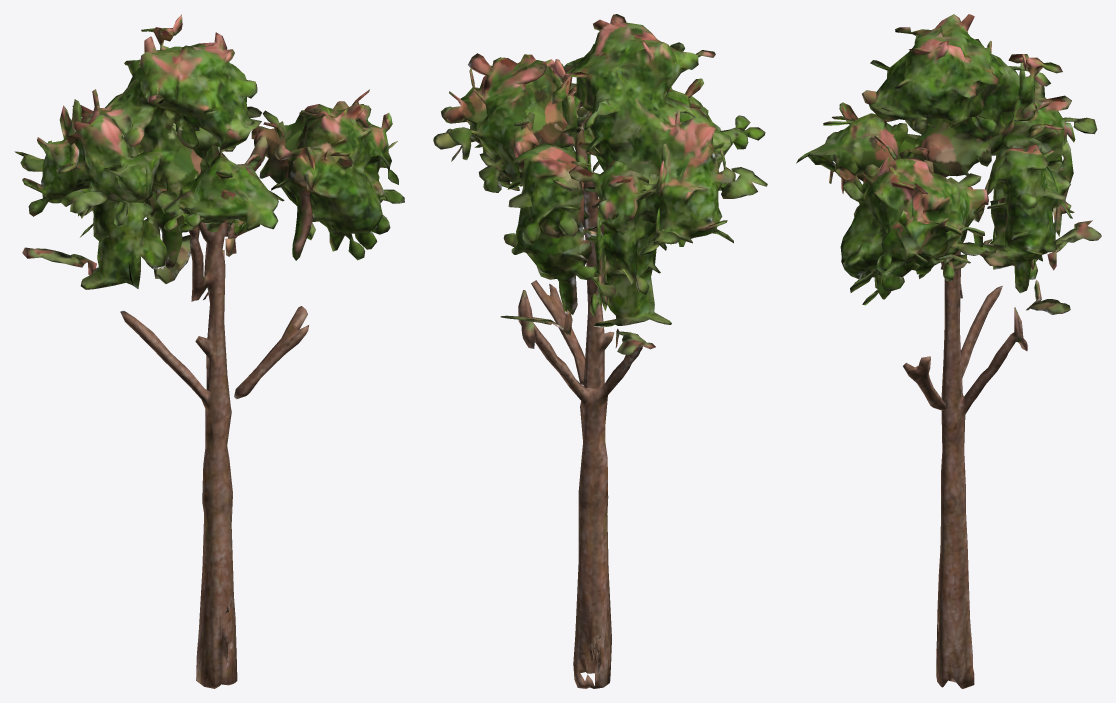
Rendered from tree.glb.
The picture shows the model from 3 angles, left to right: view 1: azimuth 30°, elevation 25°; view 2: azimuth 150°, elevation 25°; view 3: azimuth 270°, elevation 25°; orthographic projection. The views are drawn at different scales.
Parts seen in each view (by area): view 1: low; view 2: low; view 3: low.
Part boxes in pixels (x1=…): low: x1=14, y1=14, x2=404, y2=688; low: x1=433, y1=14, x2=767, y2=688; low: x1=796, y1=14, x2=1101, y2=688.
Bounding box in the file's own units: 0.8483 × 1.61 × 0.6962.
Materials: 1 (1 with a texture image).
